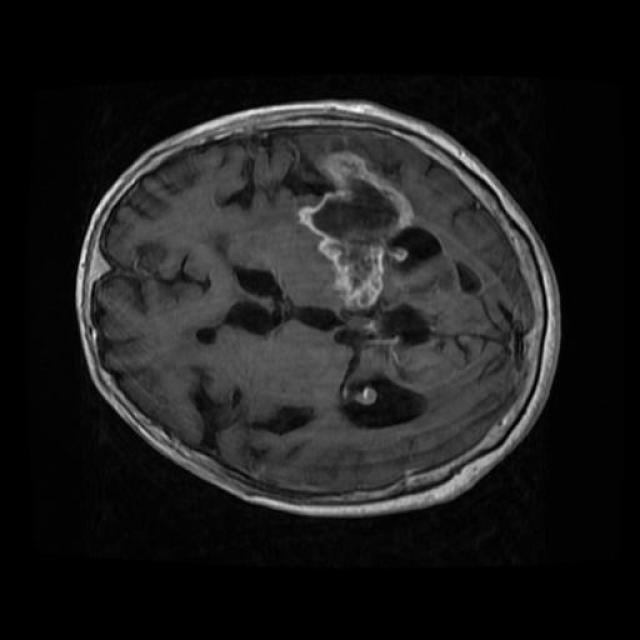Glioma: (299, 151, 412, 309)
